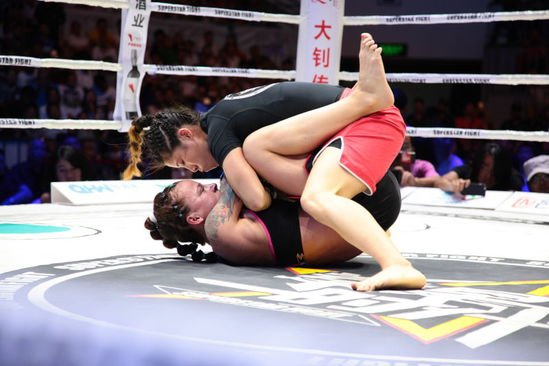fall: (130, 65, 428, 293)
